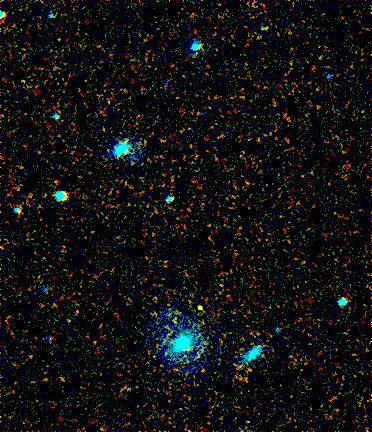star: (185, 293, 215, 323)
